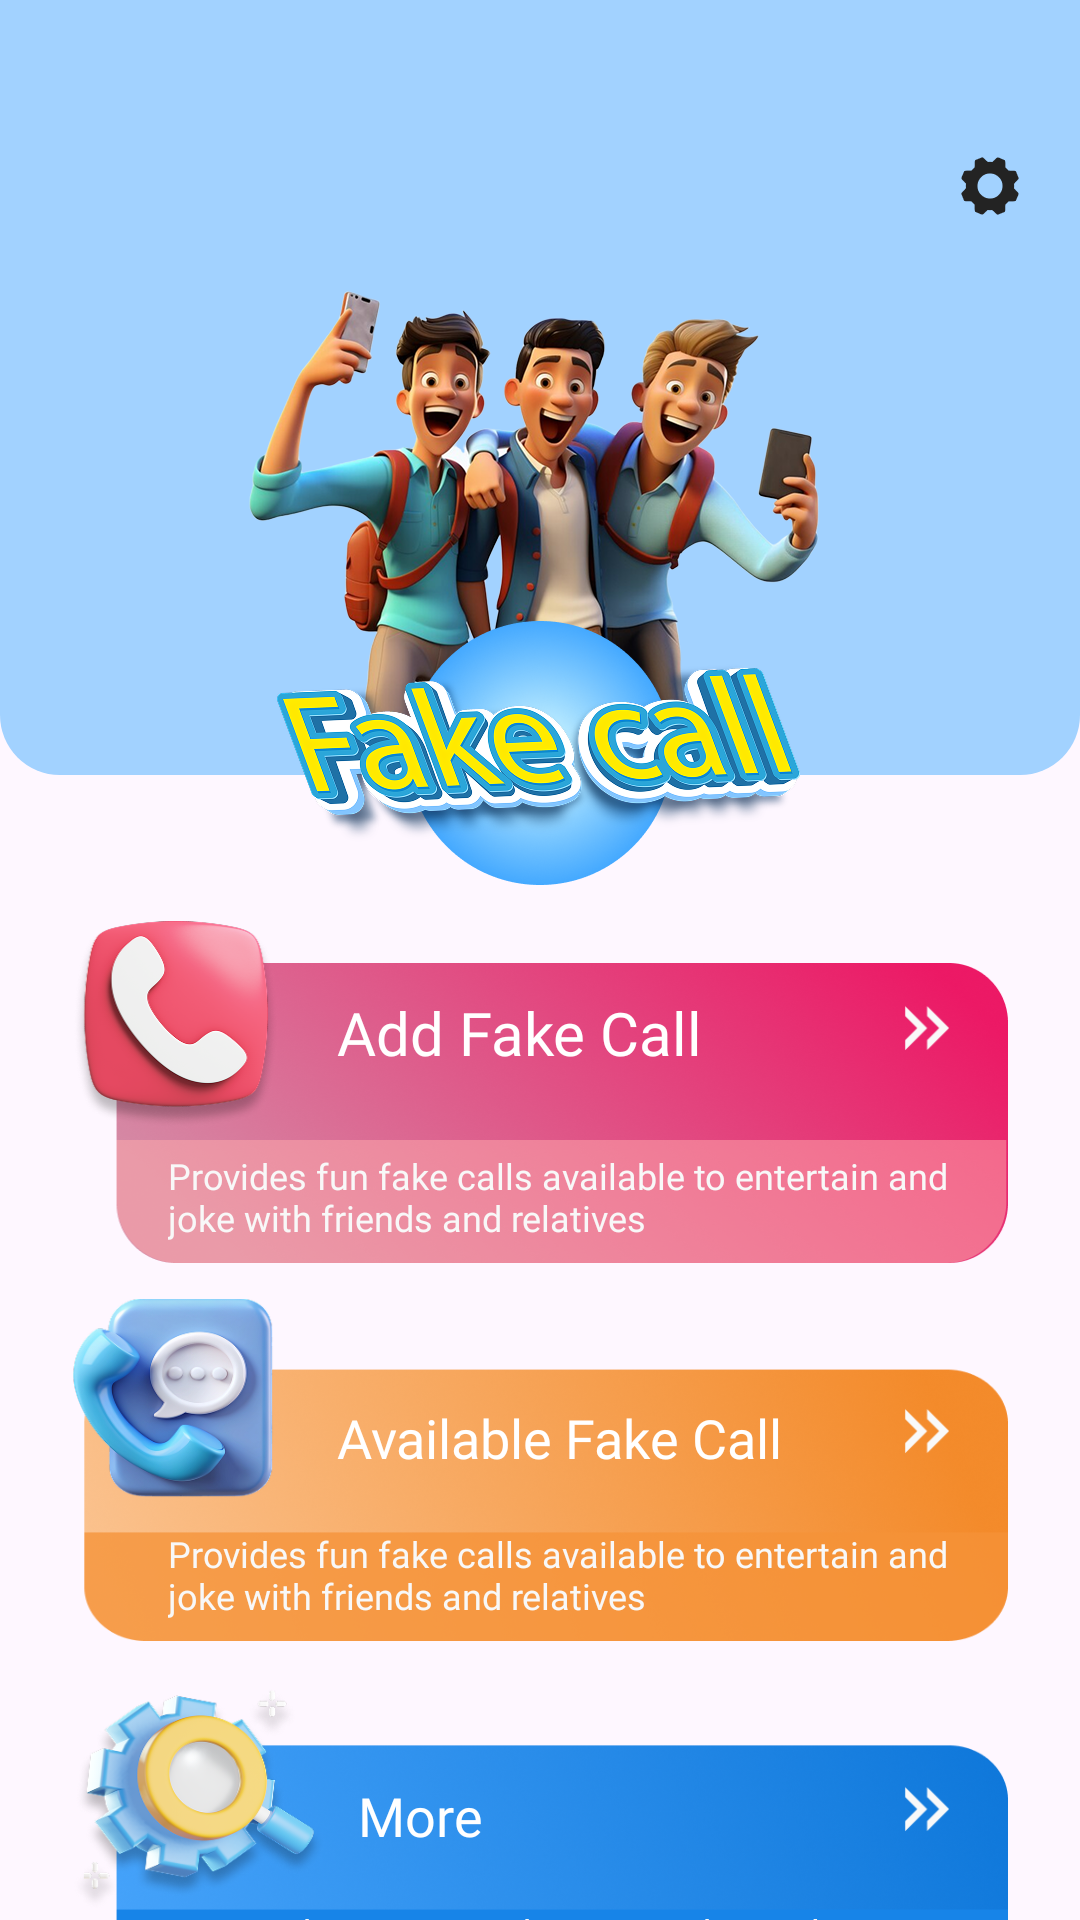

Named icons in this screenshot (1080w x 1920h) and their centers, (x=x, y=y):
setting: (x=990, y=186)
